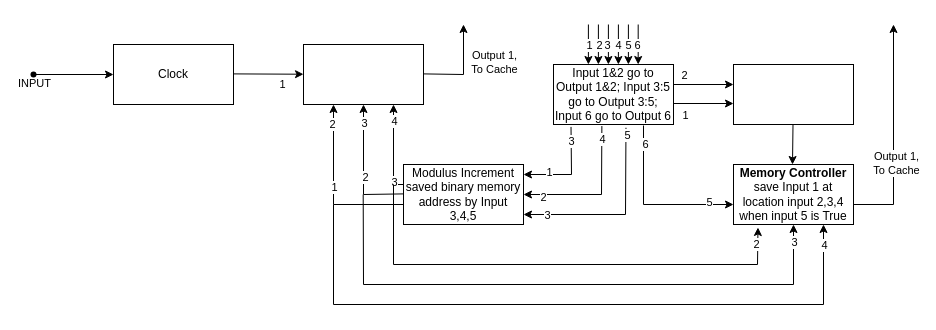
The diagram is 936 pixels wide and 330 high, and some of its shapes have lost their labels. The centre of each missing label's shape, as x and y in pixels:
Memory Controller call info at location Input 2,3,4 when Input 1 is True: the point at 363,74
NOR: the point at 793,94
